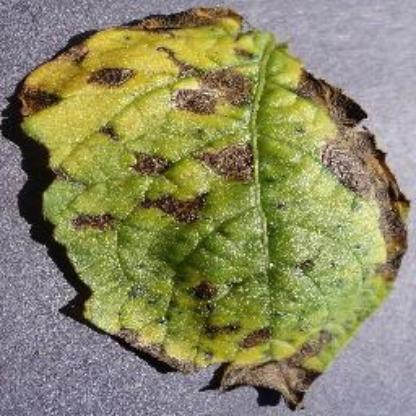Early-Blight: (11, 5, 408, 408)
